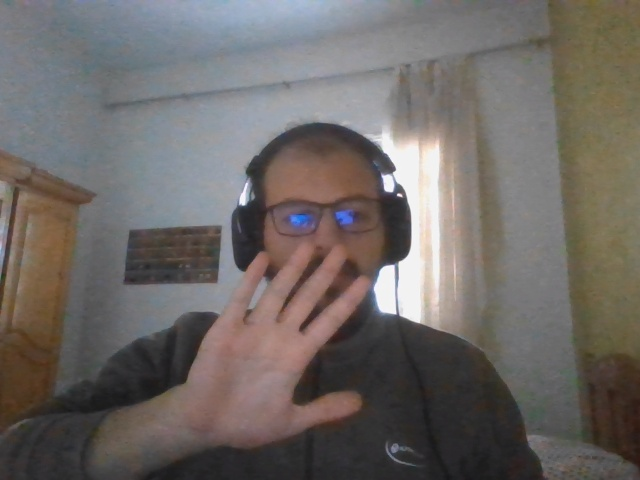Hello: (188, 241, 371, 453)
